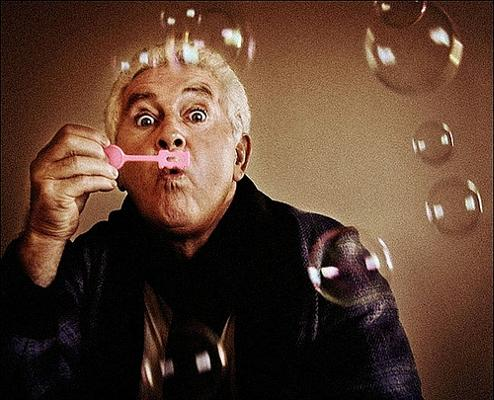person: (2, 40, 426, 400)
